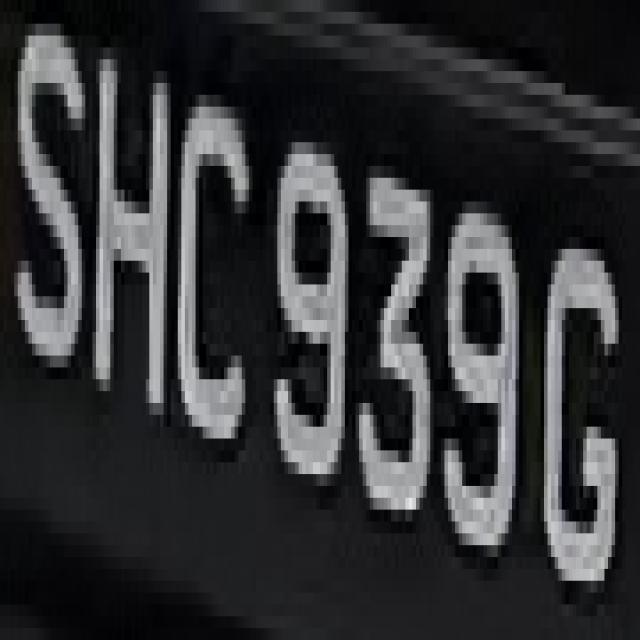3: (363, 142, 441, 557)
9: (260, 130, 362, 522), (437, 166, 519, 569)
C: (185, 71, 252, 462)
G: (540, 154, 626, 616)
H: (82, 36, 181, 427)
S: (14, 24, 82, 367)
